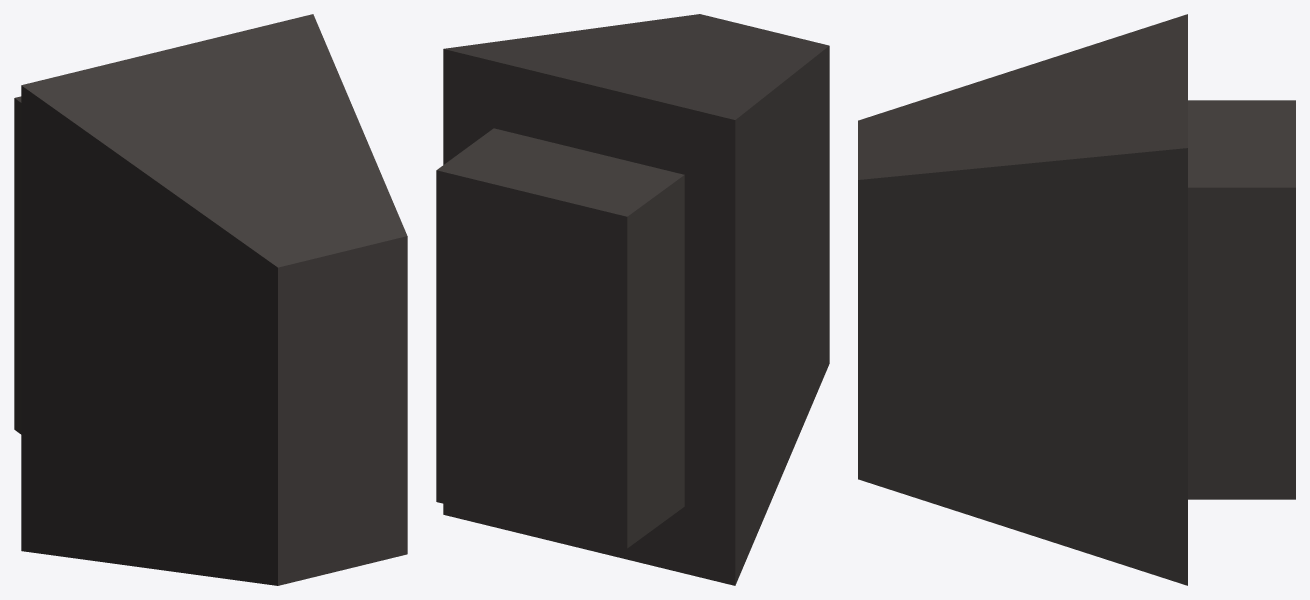
File: SMG3_03_4.fbx
The picture shows the model from 3 angles, left to right: view 1: azimuth 30°, elevation 25°; view 2: azimuth 150°, elevation 25°; view 3: azimuth 270°, elevation 25°; orthographic projection. The views are drawn at different scales.
Parts seen in each view (by area): view 1: SMG3_03_4; view 2: SMG3_03_4; view 3: SMG3_03_4.
Part boxes in pixels (x1,y1,x2,y2): SMG3_03_4: (14,14,407,585); SMG3_03_4: (436,14,829,585); SMG3_03_4: (858,14,1295,585).
Size of the model in its own units: 0.0119 by 0.0181 by 0.0164.
